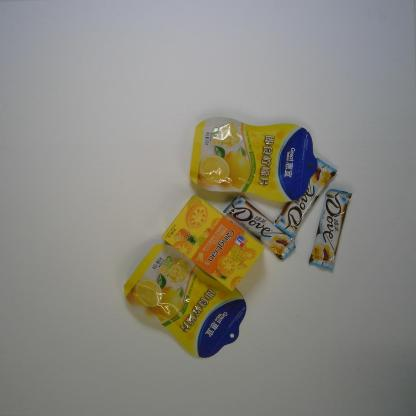Chocolate: (273, 155, 340, 240), (223, 192, 297, 261), (306, 187, 352, 272)
Dessert: (162, 193, 264, 292)
Dried Fruit: (121, 242, 249, 359), (189, 116, 317, 205)
